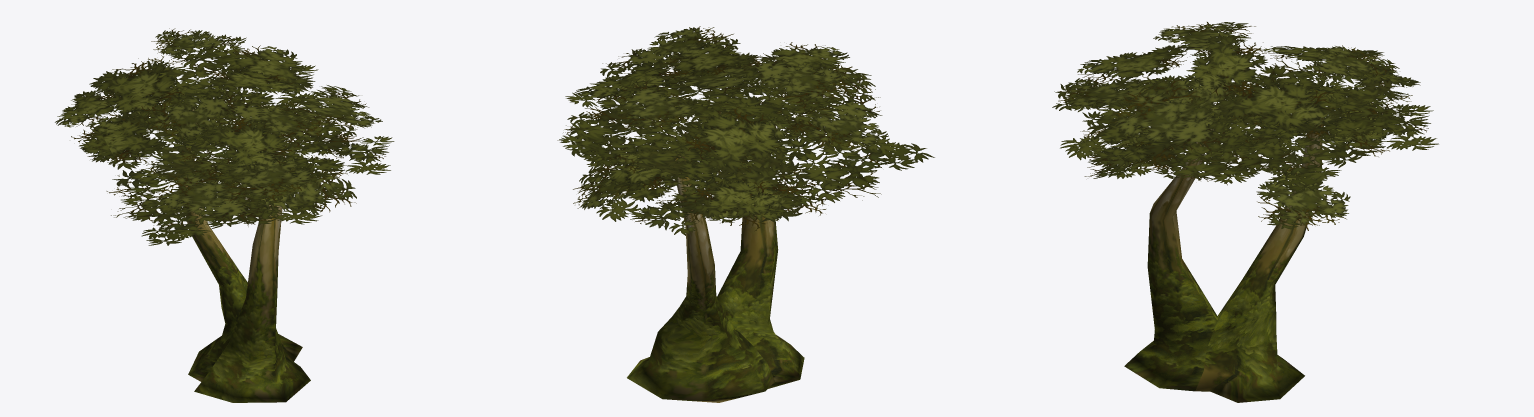
Rendered from Wetlands_Tree_02.fbx.
The picture shows the model from 3 angles, left to right: view 1: azimuth 30°, elevation 25°; view 2: azimuth 150°, elevation 25°; view 3: azimuth 270°, elevation 25°; orthographic projection. The views are drawn at different scales.
Visible parts, largest first — view 1: Wetlands_TreeTops_02, Wetlands_Tree_02; view 2: Wetlands_TreeTops_02, Wetlands_Tree_02; view 3: Wetlands_TreeTops_02, Wetlands_Tree_02.
Part boxes in pixels (x1=…): Wetlands_TreeTops_02: x1=55, y1=28, x2=394, y2=245; Wetlands_Tree_02: x1=178, y1=108, x2=310, y2=402; Wetlands_TreeTops_02: x1=557, y1=26, x2=934, y2=235; Wetlands_Tree_02: x1=627, y1=111, x2=804, y2=402; Wetlands_TreeTops_02: x1=1052, y1=22, x2=1438, y2=230; Wetlands_Tree_02: x1=1124, y1=118, x2=1323, y2=402.
Size of the model in its own units: 9.92 by 9.52 by 12.69.
Materials: 2 (2 with a texture image).
